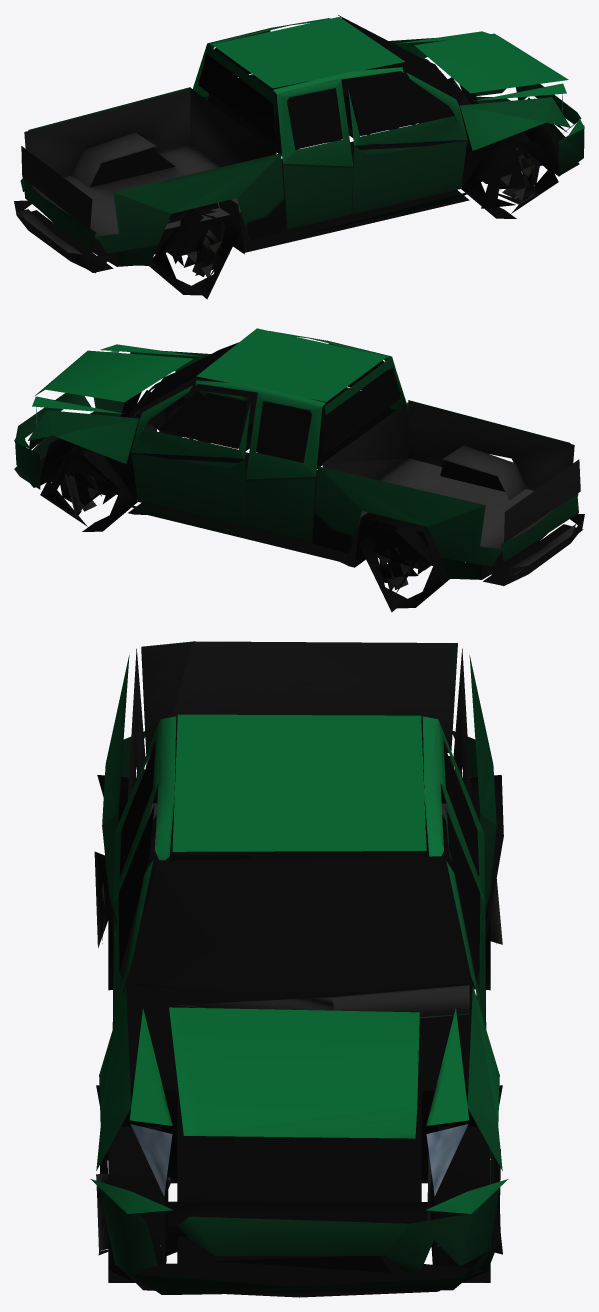
The model's file is car3Low.obj.
3 views of the same model, one above another, from view 1: azimuth 30°, elevation 25°; view 2: azimuth 150°, elevation 25°; view 3: azimuth 270°, elevation 25° (orthographic). The views are drawn at different scales.
Parts seen in each view (by area): view 1: car3Low; view 2: car3Low; view 3: car3Low.
Part boxes in pixels (<box>): car3Low: <box>14,15,584,299</box>; car3Low: <box>14,328,584,612</box>; car3Low: <box>90,641,508,1297</box>.
Bounding box in the file's own units: 5.17 × 1.74 × 1.85.
1 material, 1 textured.
